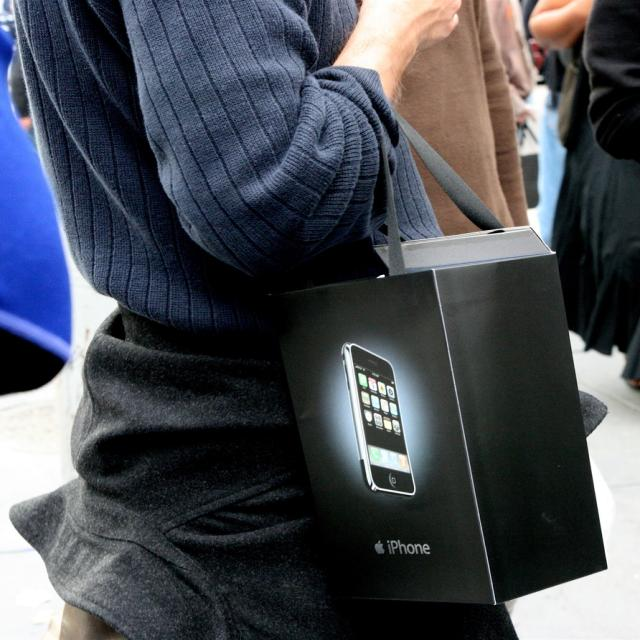Mobile-phone: (345, 339, 416, 498)
